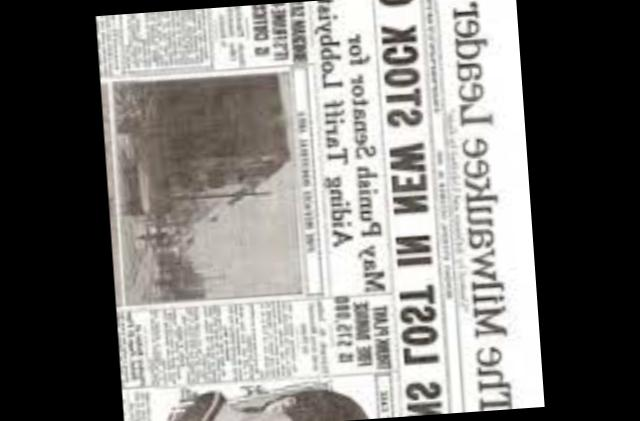cardboard paper: (95, 0, 544, 421)
